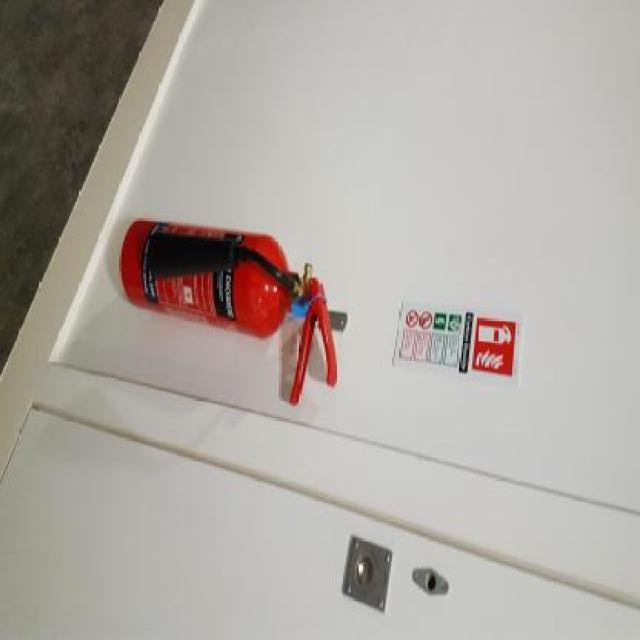fire extinguisher: (120, 219, 338, 408)
